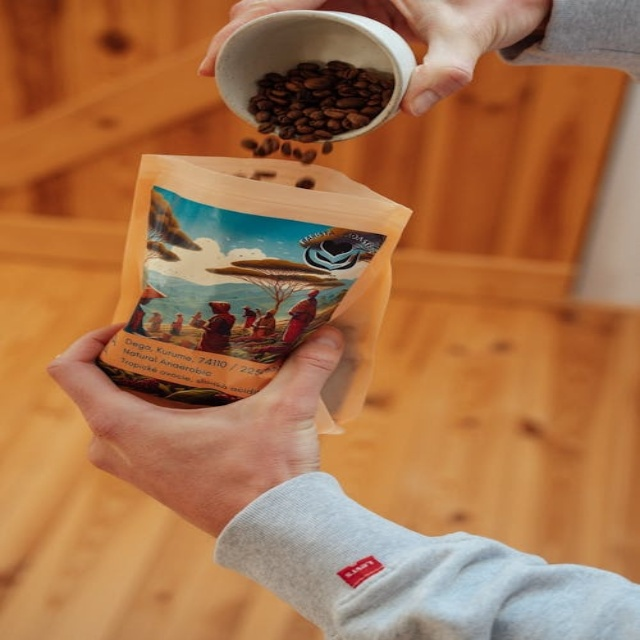Sin_guantes: (51, 315, 344, 534), (195, 0, 544, 120)
